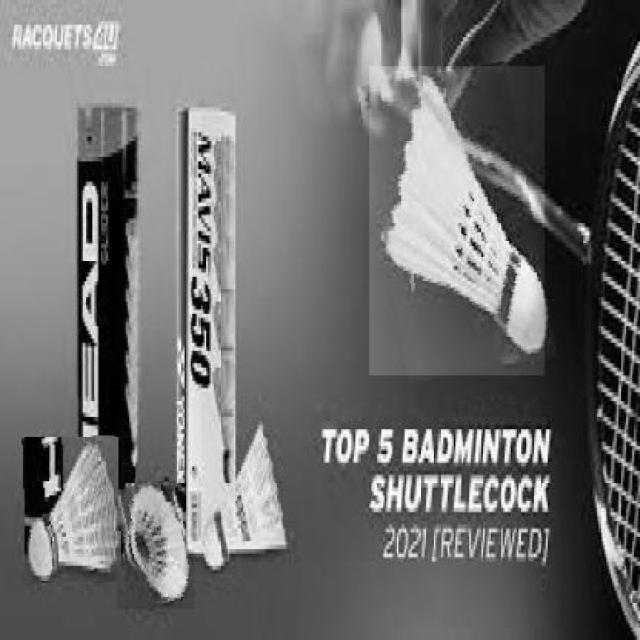Shuttlecock: (369, 67, 545, 376), (23, 437, 120, 581), (117, 480, 194, 609)
